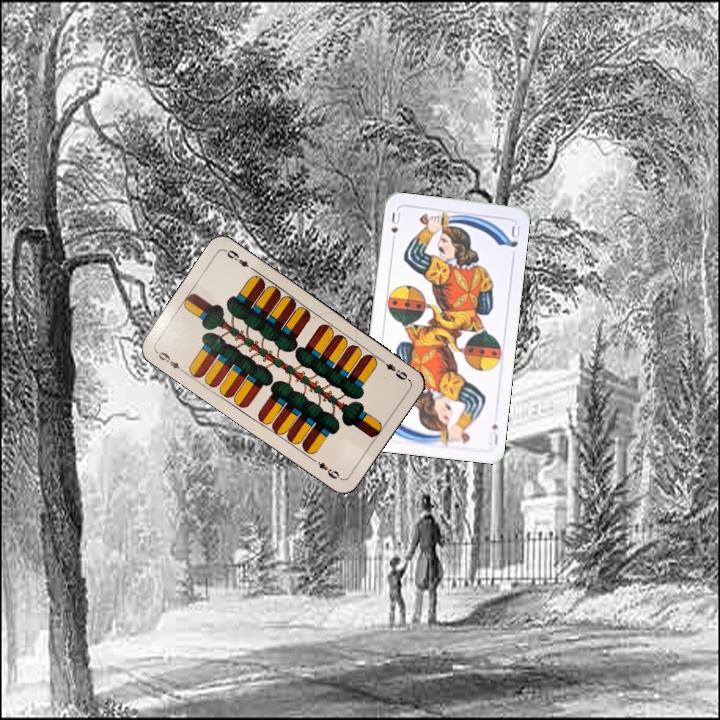E9: (376, 355, 412, 383), (152, 347, 187, 375)
SU: (387, 207, 403, 247), (484, 420, 501, 448)
